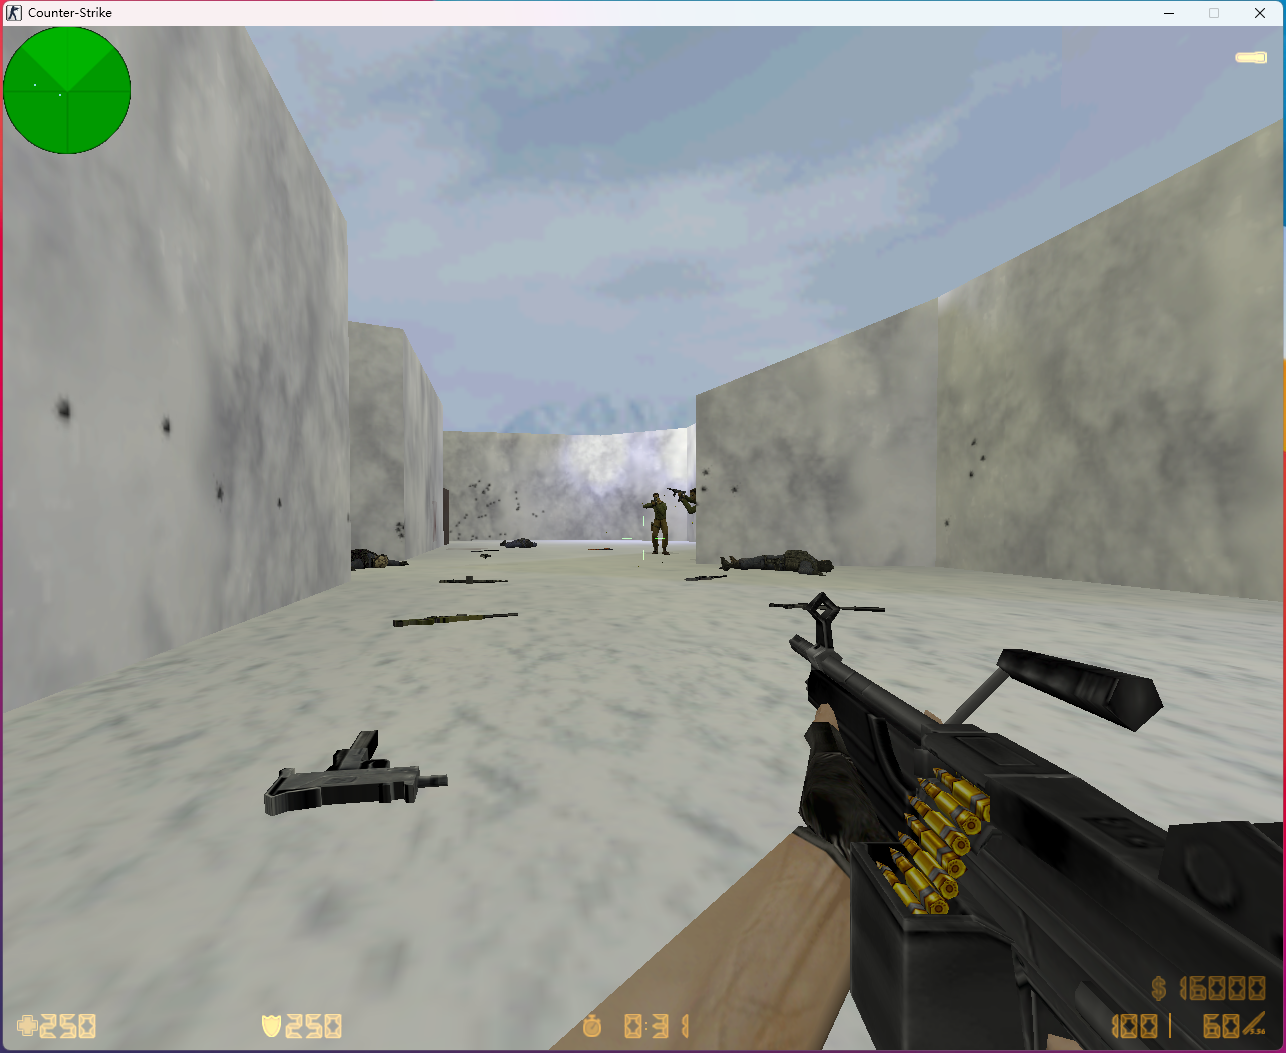T: (643, 493, 670, 554)
dead: (719, 552, 838, 575), (348, 546, 410, 571), (500, 539, 537, 549)
weapon: (264, 730, 449, 820), (392, 610, 517, 628), (769, 599, 885, 614), (434, 575, 509, 586), (681, 572, 723, 585), (583, 547, 614, 551)
